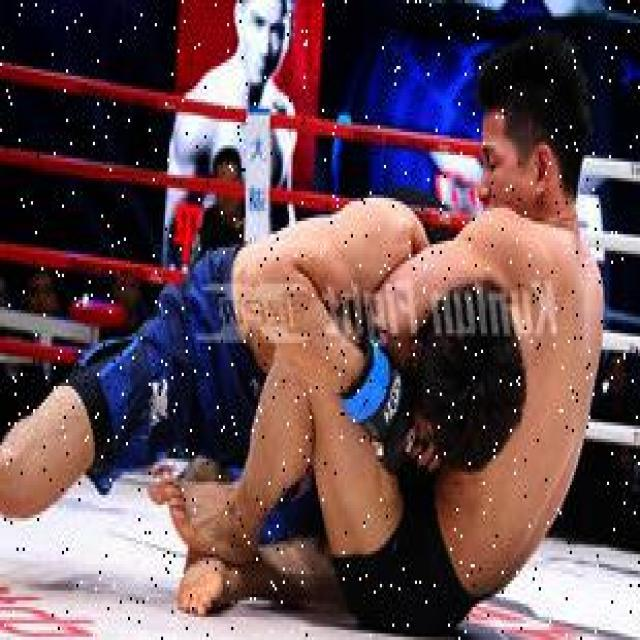fall: (2, 191, 498, 515)
